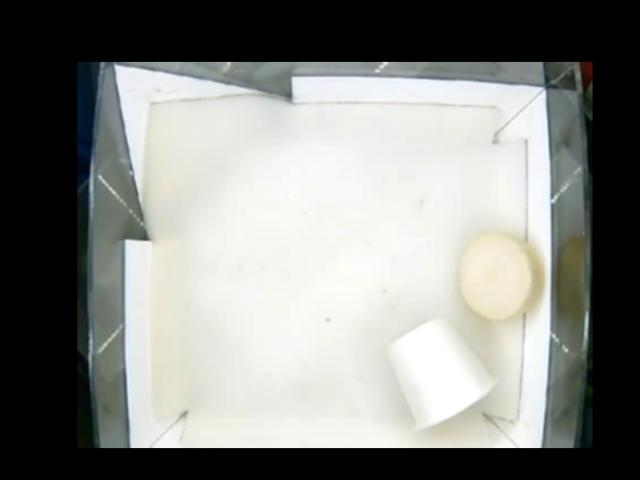Cup: (386, 316, 498, 432)
Mooli: (459, 234, 540, 325)
